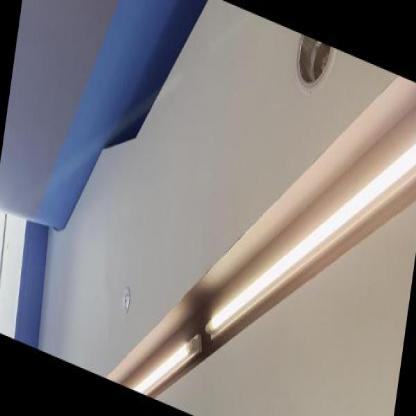light_on: (197, 42, 415, 415), (123, 309, 199, 414)
